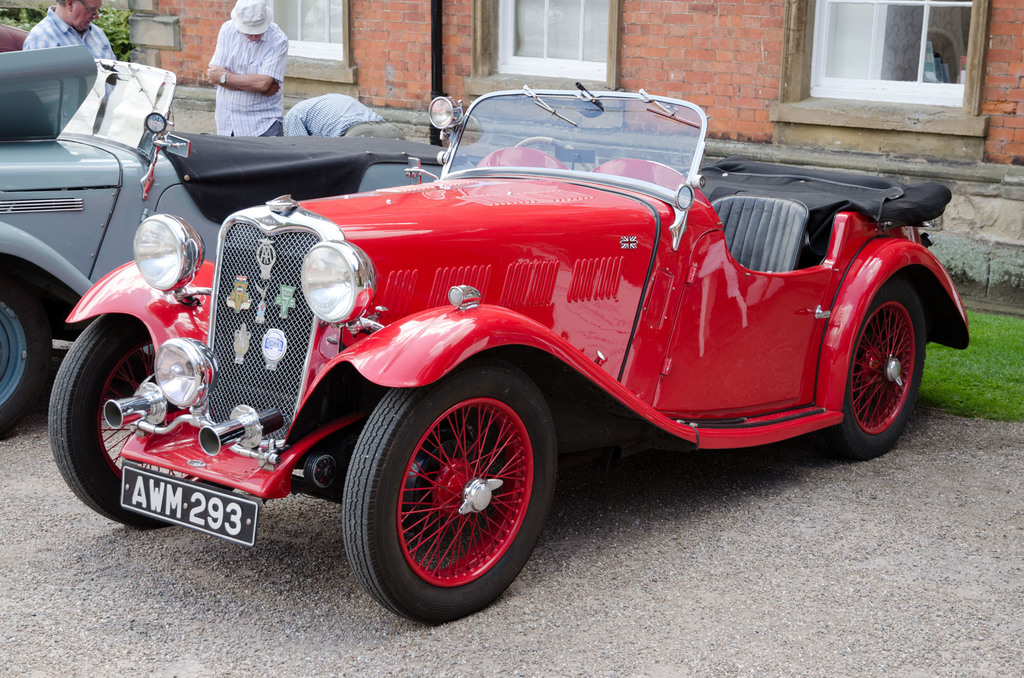mobil: (74, 124, 957, 597)
